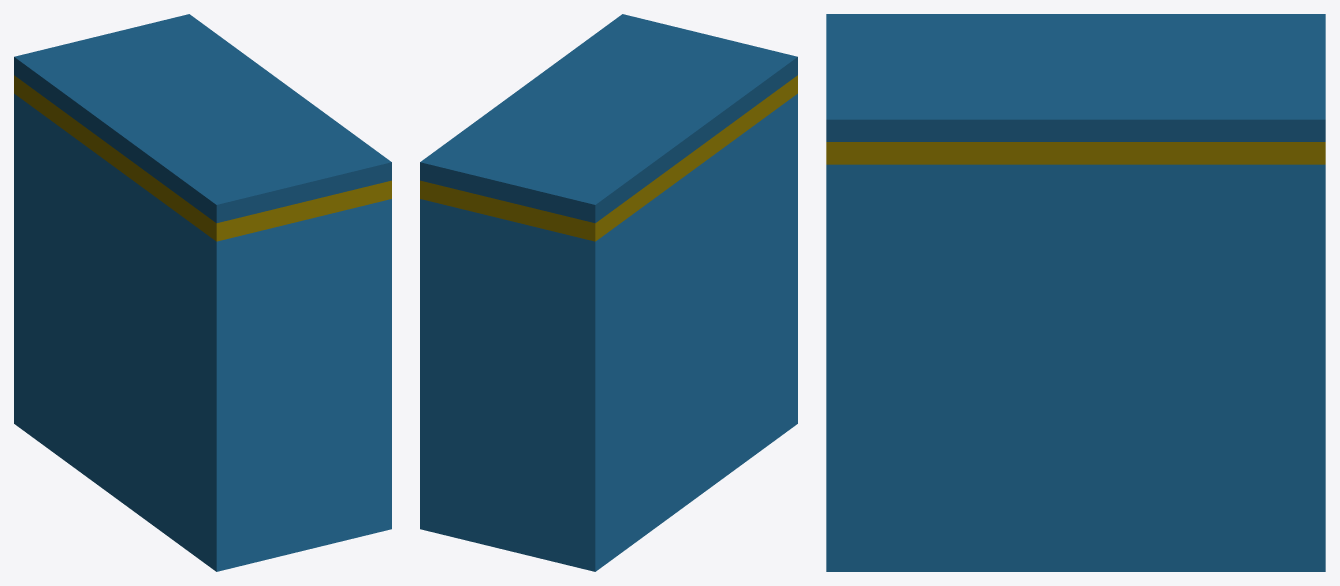
The model's file is wall.glb.
3 renders of one model, left to right at view 1: azimuth 30°, elevation 25°; view 2: azimuth 150°, elevation 25°; view 3: azimuth 270°, elevation 25°, orthographic. The views are drawn at different scales.
Parts seen in each view (by area): view 1: Wall; view 2: Wall; view 3: Wall.
Part boxes in pixels (<box>): Wall: <box>14,14,391,571</box>; Wall: <box>420,14,797,571</box>; Wall: <box>826,14,1325,571</box>.
Size of the model in its own units: 1 by 2 by 2.
